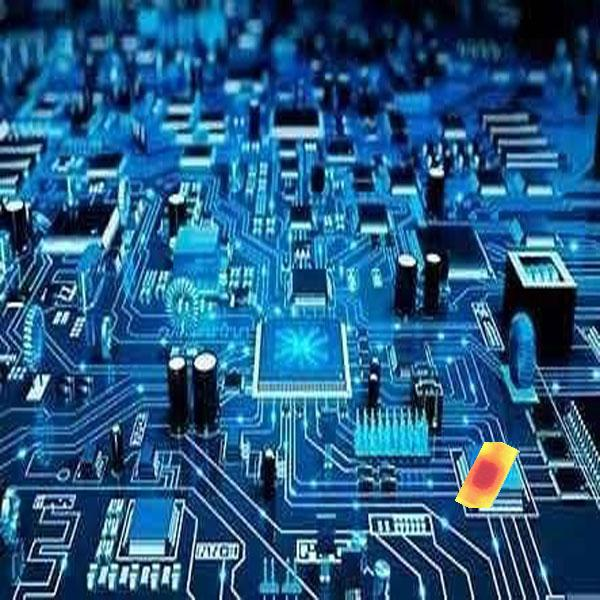componente_T: (453, 440, 521, 508)
